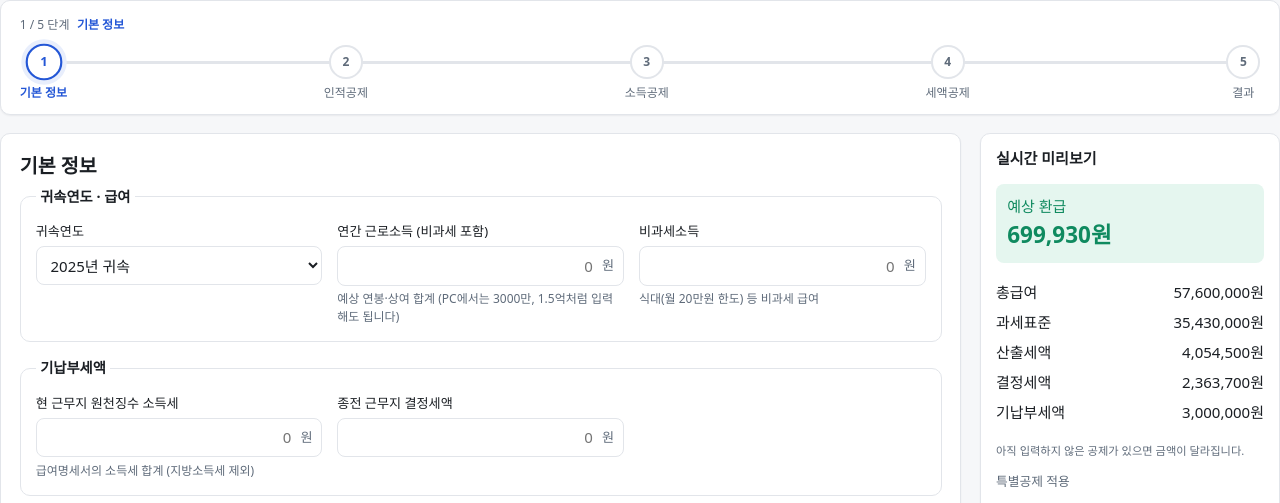
Test: SimulationWizard › 상단 단계를 눌러 이후 단계로 바로 이동하고 다시 돌아올 수 있다
This screenshot has width=1280, height=503.
Type "5000만" into the field labelled "연간 근로소득 (비과세 포함)" at (481, 266), box top-left (337, 246), bottom-right (624, 286)
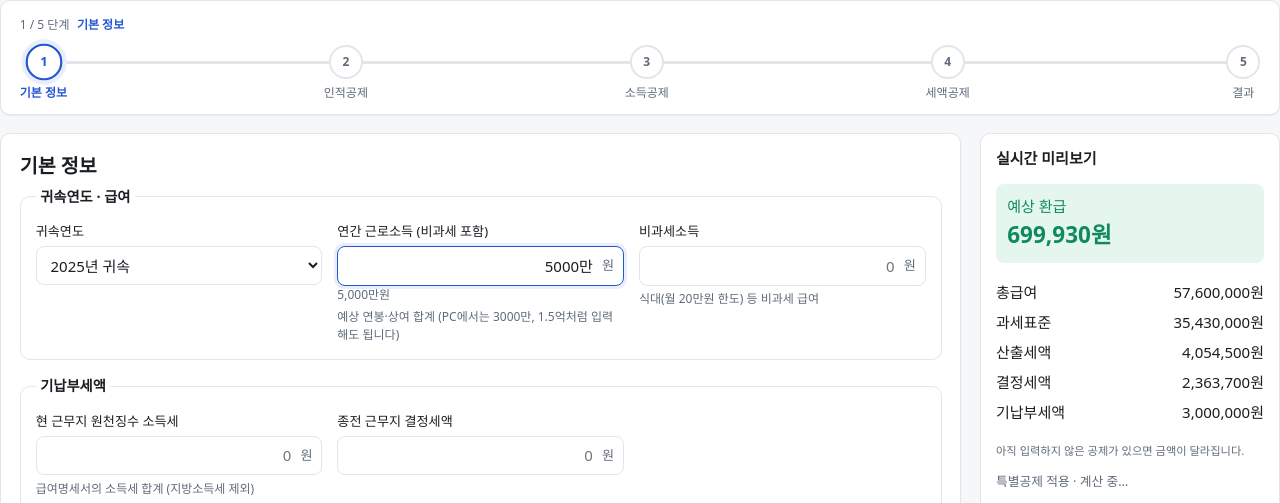
Click the button with aria-label "4단계 세액공제" at (948, 74), box top-left (926, 45), bottom-right (970, 102)
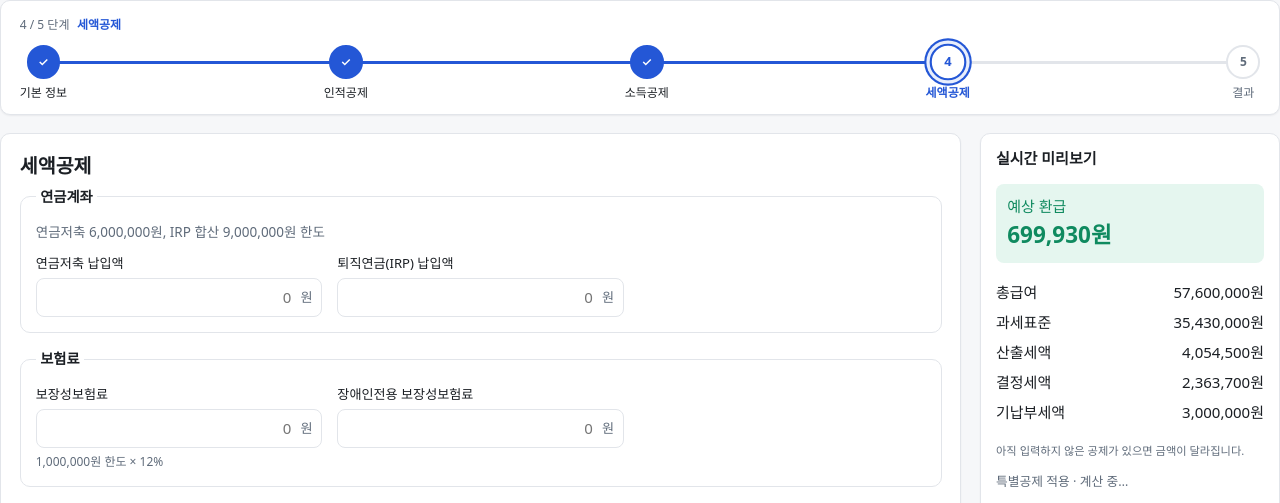
Expected: the heading "세액공제" is shown, top-left (20, 152), bottom-right (92, 179)
Expected: the button with aria-label "1단계 기본 정보 (완료)" is shown, top-left (20, 45), bottom-right (67, 102)
Click the button with aria-label "5단계 결과" at (1243, 74), box top-left (1226, 45), bottom-right (1260, 102)
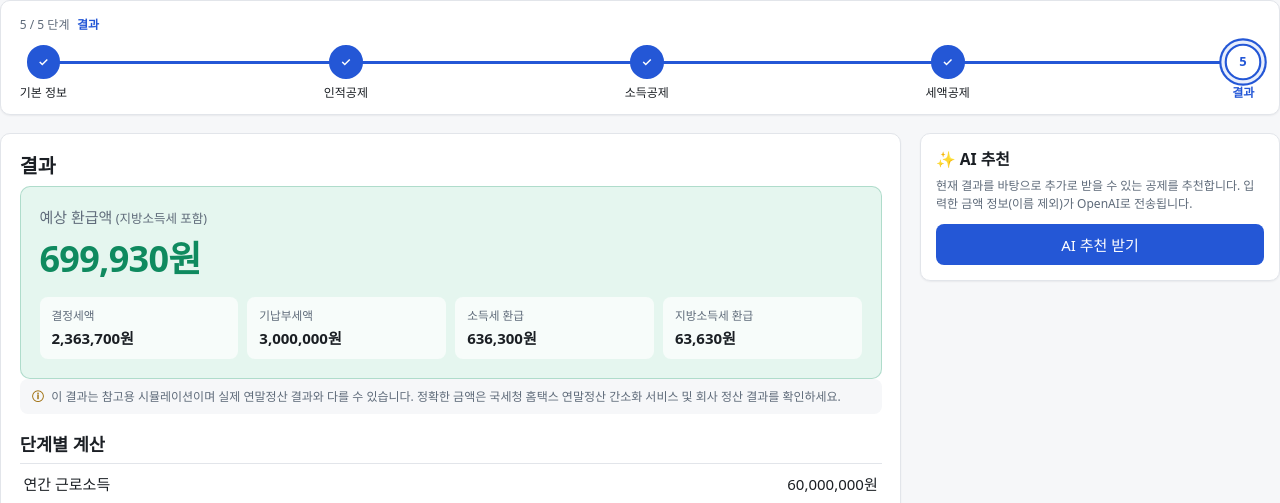
Expected: the text "예상 환급액" is shown, top-left (40, 207), bottom-right (112, 227)
Click the button with aria-label "1단계 기본 정보 (완료)" at (43, 74), box top-left (20, 45), bottom-right (67, 102)
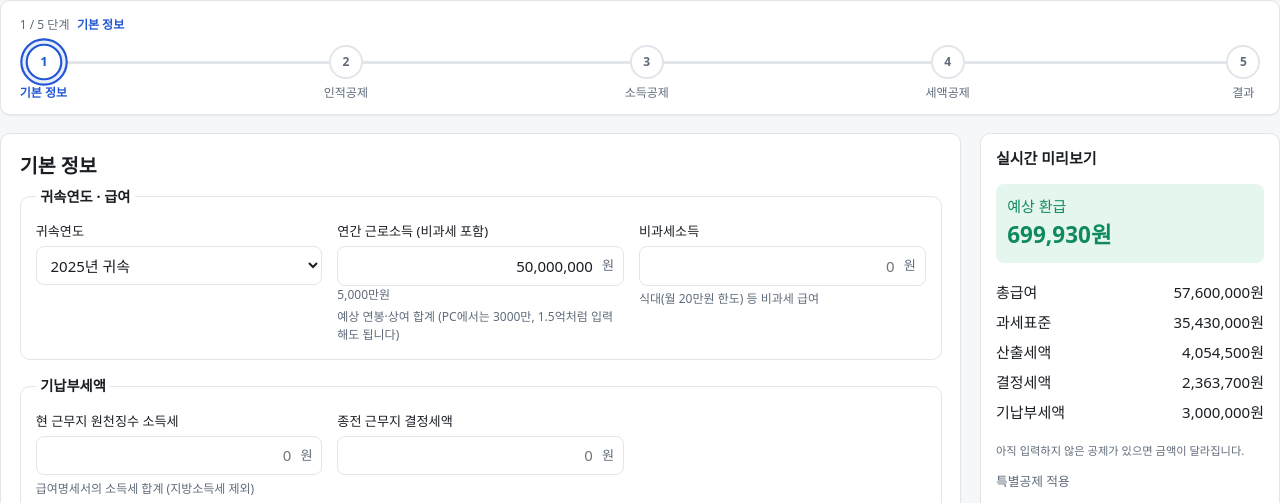
Expected: the heading "기본 정보" is shown, top-left (20, 152), bottom-right (97, 179)
Expected: the field labelled "연간 근로소득 (비과세 포함)" holds "50,000,000", top-left (337, 246), bottom-right (624, 286)
